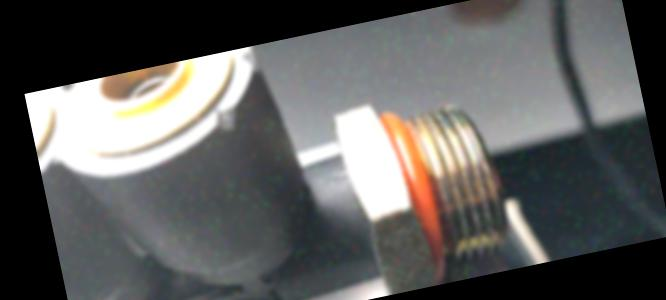bump: (207, 95, 250, 140), (232, 44, 269, 81)
joint line: (303, 178, 329, 191)
white mark: (335, 166, 350, 181)
